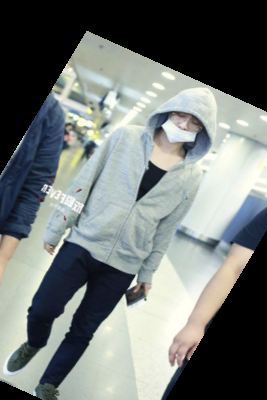mask_weared_incorrect: (147, 82, 231, 157)
